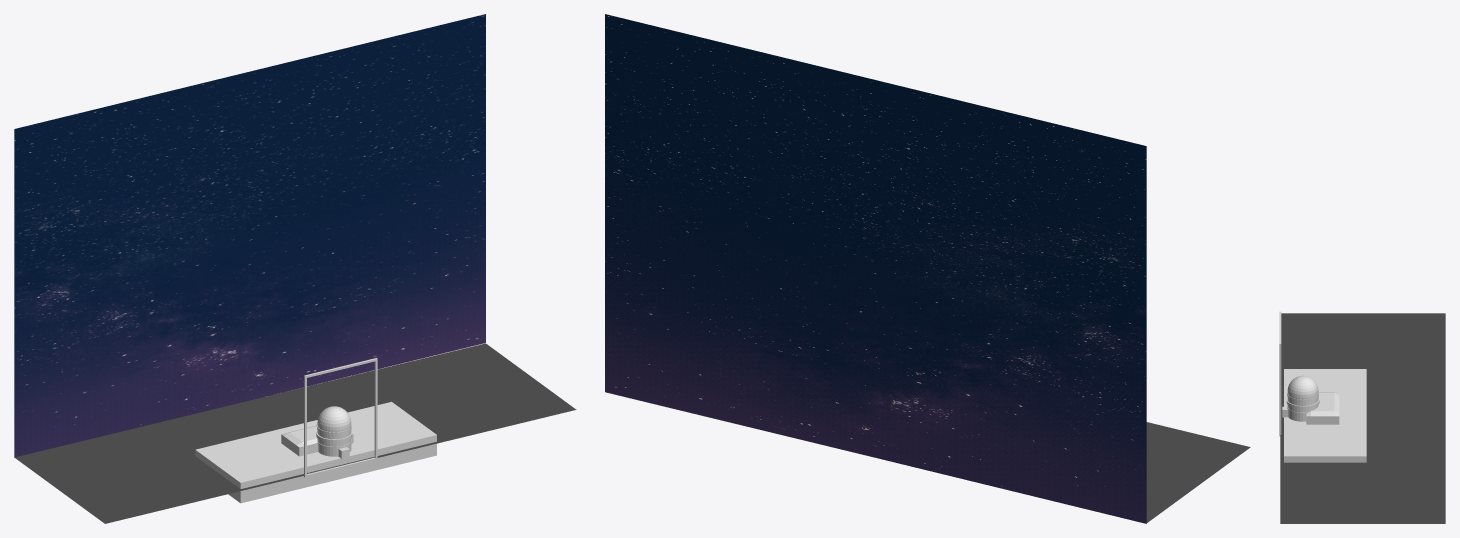
3 renders of one model, left to right at view 1: azimuth 30°, elevation 25°; view 2: azimuth 150°, elevation 25°; view 3: azimuth 270°, elevation 25°, orthographic. The views are drawn at different scales.
Visible parts, largest first — view 1: Space, Plane, Ground, Shell, Cube; view 2: Space, Plane; view 3: Plane, Ground, Shell, Cube, Cube.004.
Boxes of the visible parts, <box> form: Space: <box>14,14,485,457</box>; Plane: <box>14,343,576,523</box>; Ground: <box>195,401,436,503</box>; Shell: <box>317,406,351,456</box>; Cube: <box>281,425,353,456</box>; Space: <box>605,14,1146,523</box>; Plane: <box>605,392,1250,522</box>; Plane: <box>1280,313,1445,523</box>; Ground: <box>1284,369,1366,462</box>; Shell: <box>1287,375,1318,421</box>; Cube: <box>1306,392,1339,424</box>; Cube.004: <box>1279,345,1281,435</box>.
Size of the model in its own units: 3.05 by 2.12 by 1.02.
Materials: 2 (1 with a texture image).
